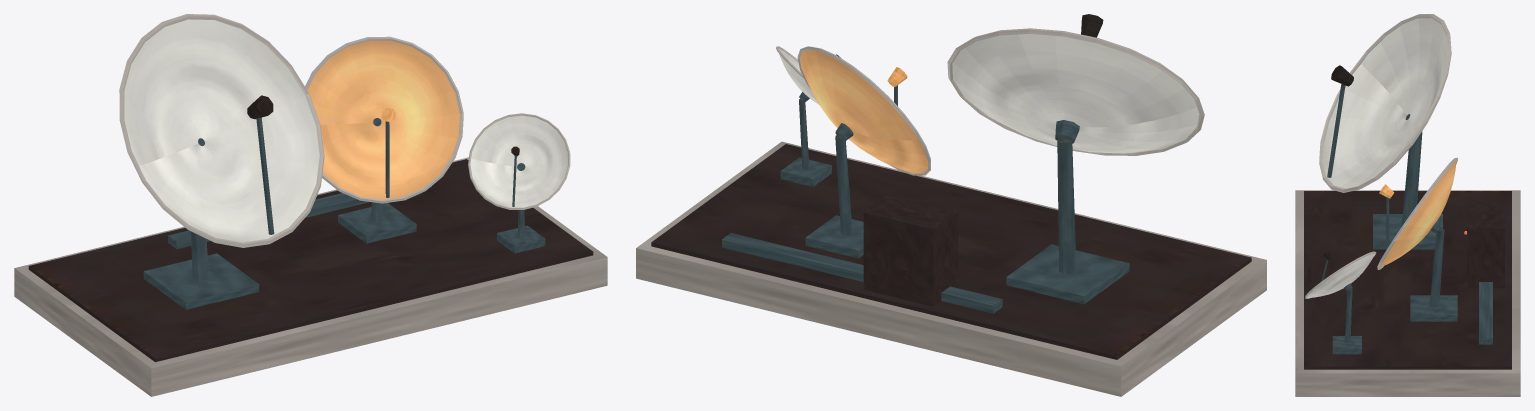
File: prop-5-earth.glb
The picture shows the model from 3 angles, left to right: view 1: azimuth 30°, elevation 25°; view 2: azimuth 150°, elevation 25°; view 3: azimuth 270°, elevation 25°; orthographic projection. The views are drawn at different scales.
Parts seen in each view (by area): view 1: geometry_0; view 2: geometry_0; view 3: geometry_0.
Part boxes in pixels (x1=…): geometry_0: x1=14, y1=14, x2=607, y2=396; geometry_0: x1=636, y1=14, x2=1266, y2=396; geometry_0: x1=1295, y1=14, x2=1520, y2=396.
Size of the model in its own units: 2.5 by 1.49 by 1.3.
1 material, 1 textured.
